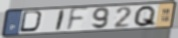2: (114, 6, 133, 29)
9: (91, 7, 111, 30)
D: (18, 10, 46, 34)
F: (65, 7, 90, 33)
I: (54, 9, 67, 32)
Q: (132, 5, 158, 28)
